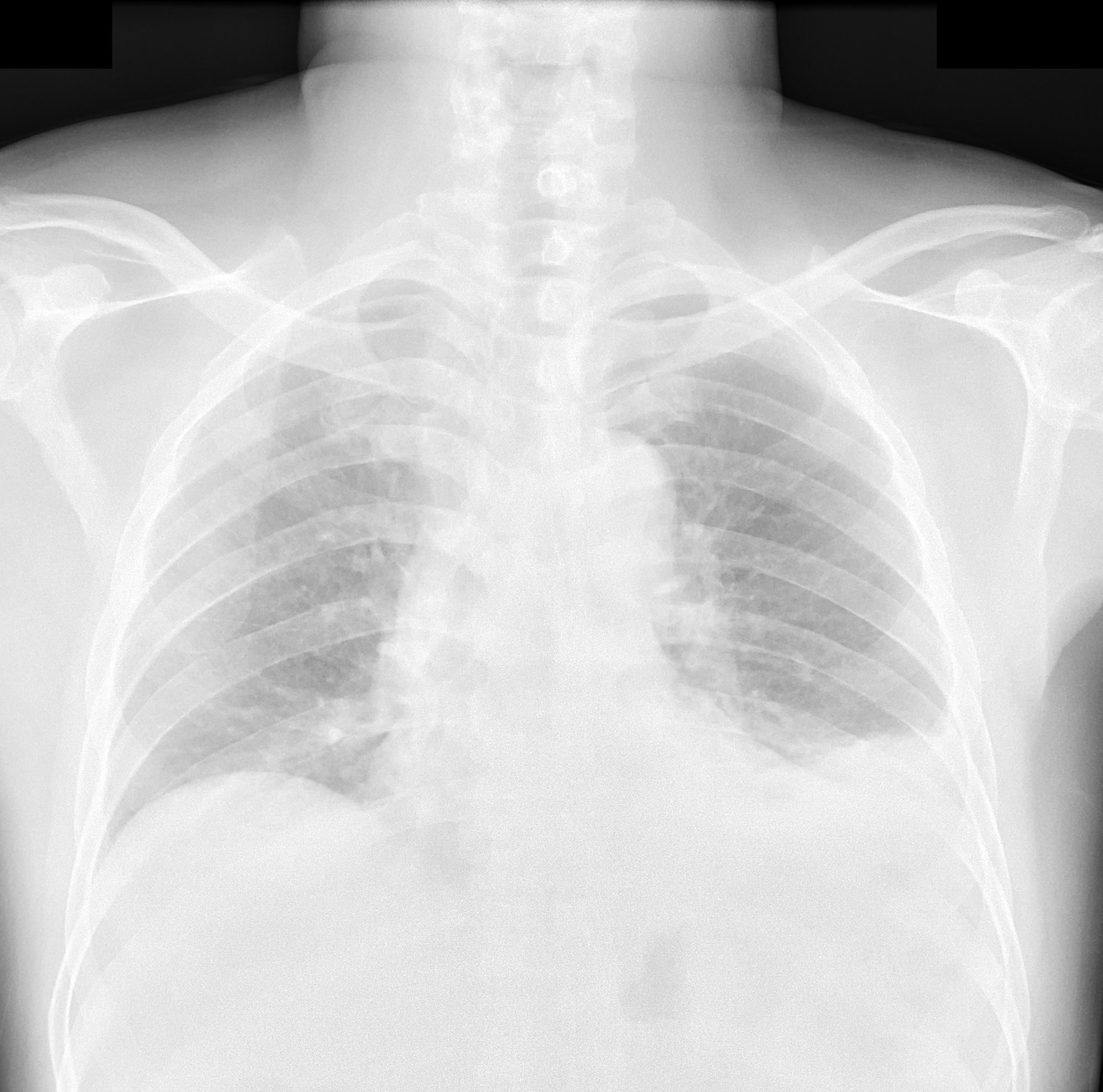Aortic enlargement: (557, 436, 679, 593)
